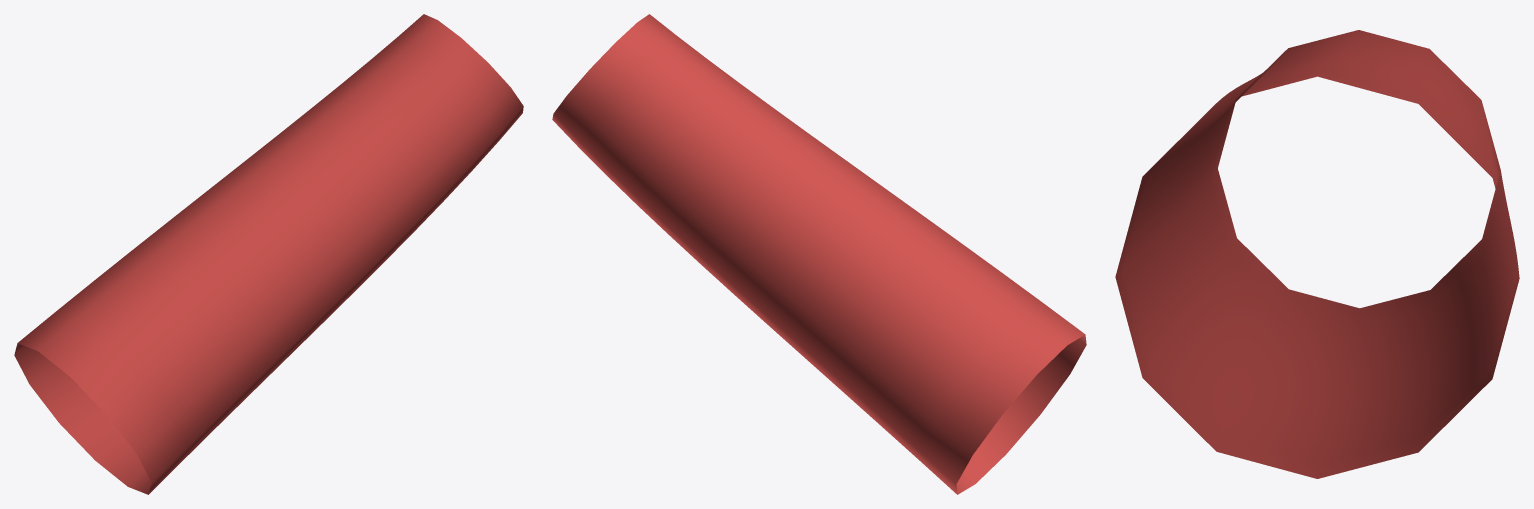
3 renders of one model, left to right at view 1: azimuth 30°, elevation 25°; view 2: azimuth 150°, elevation 25°; view 3: azimuth 270°, elevation 25°, orthographic. The views are drawn at different scales.
Parts seen in each view (by area): view 1: 左肾动脉; view 2: 左肾动脉; view 3: 左肾动脉.
Part boxes in pixels (left/top/right/bottom): 左肾动脉: left=14, top=14, right=523, bottom=494; 左肾动脉: left=552, top=14, right=1086, bottom=494; 左肾动脉: left=1115, top=30, right=1519, bottom=478.
Bounding box in the file's own units: 0.0405 × 0.0306 × 0.0147.
